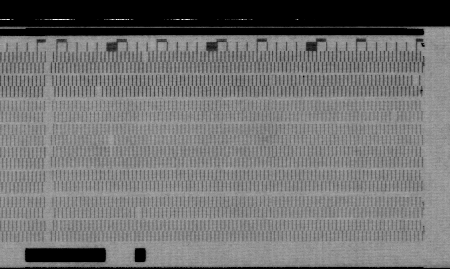Broken hole: (133, 207, 144, 221), (140, 50, 151, 63), (411, 73, 421, 87), (94, 86, 104, 99), (106, 135, 116, 148), (389, 111, 399, 124)
Oblique printing: (419, 50, 428, 66), (419, 220, 428, 235), (419, 195, 427, 210)
